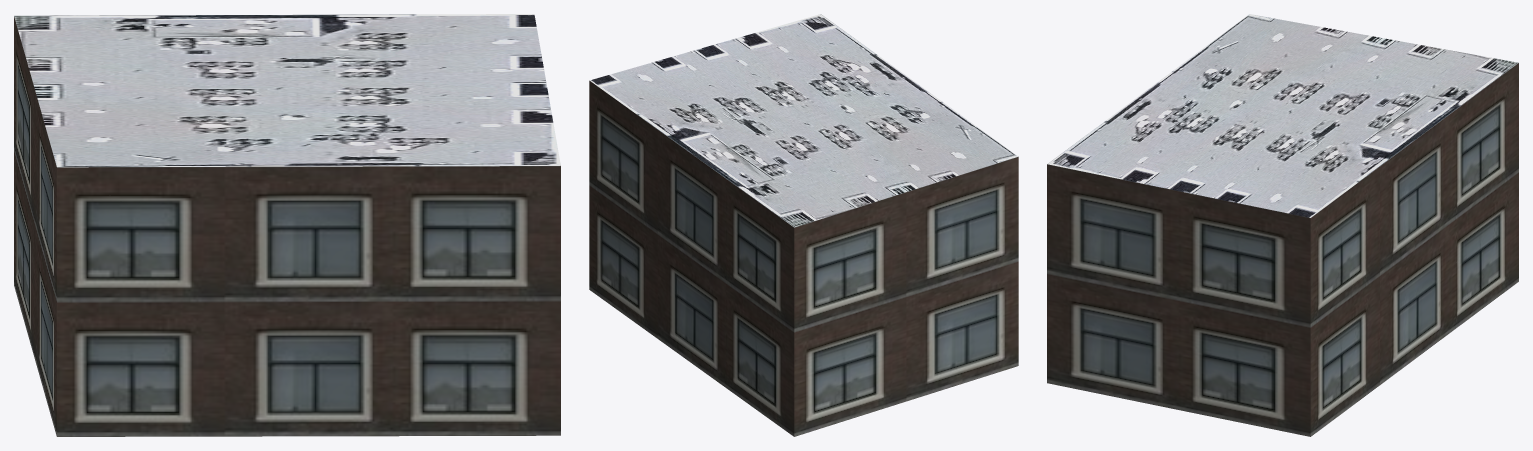
The model's file is ResTex__810.fbx.
3 views of the same model, side by side, from view 1: azimuth 30°, elevation 25°; view 2: azimuth 150°, elevation 25°; view 3: azimuth 270°, elevation 25° (orthographic). The views are drawn at different scales.
Parts seen in each view (by area): view 1: CityEngineMaterial_16_m, CityEngineMaterial_15_m; view 2: CityEngineMaterial_16_m, CityEngineMaterial_15_m; view 3: CityEngineMaterial_16_m, CityEngineMaterial_15_m.
Part boxes in pixels (<box>): CityEngineMaterial_16_m: <box>14,16,560,436</box>; CityEngineMaterial_15_m: <box>14,14,560,167</box>; CityEngineMaterial_16_m: <box>589,80,1018,436</box>; CityEngineMaterial_15_m: <box>590,14,1017,227</box>; CityEngineMaterial_16_m: <box>1047,63,1518,436</box>; CityEngineMaterial_15_m: <box>1047,14,1518,217</box>.
Size of the model in its own units: 11.99 by 6 by 11.72.
2 materials, 2 textured.
